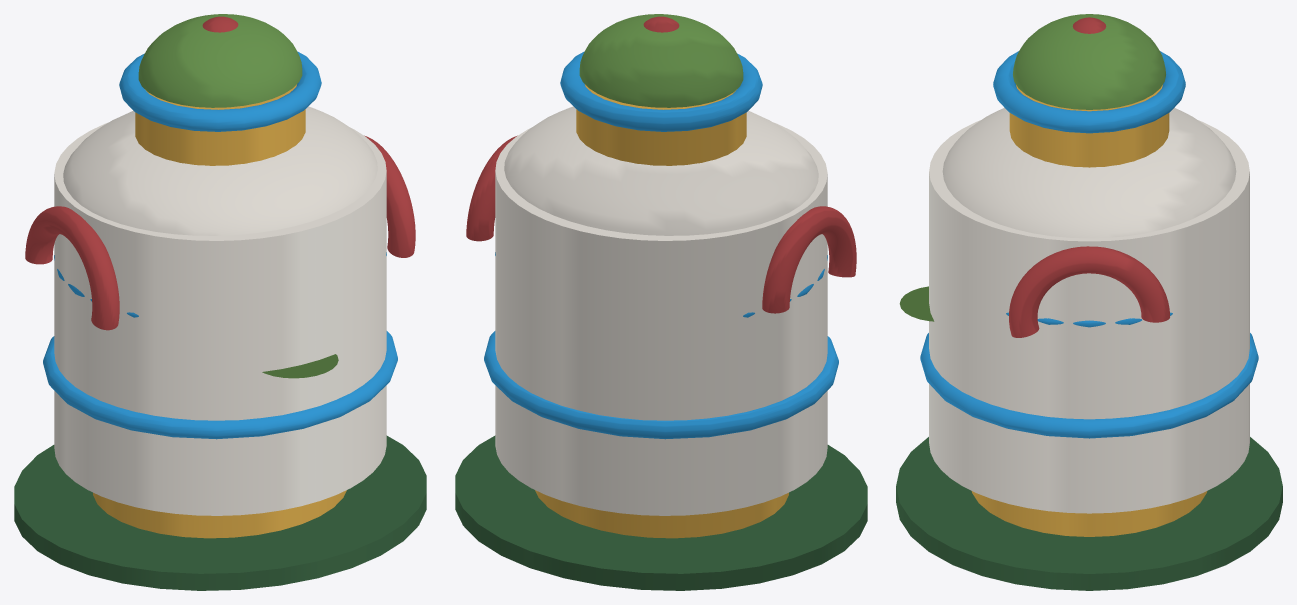
Rendered from 1187_唐图鉴_黑石号.glb.
3 views of the same model, side by side, from view 1: azimuth 30°, elevation 25°; view 2: azimuth 150°, elevation 25°; view 3: azimuth 270°, elevation 25° (orthographic).
Parts seen in each view (by area): view 1: card_1187; view 2: card_1187; view 3: card_1187.
Part boxes in pixels (x1=…): card_1187: x1=14, y1=14, x2=426, y2=590; card_1187: x1=455, y1=14, x2=867, y2=590; card_1187: x1=896, y1=14, x2=1282, y2=590.
Size of the model in its own units: 0.7843 by 1 by 0.7261.
